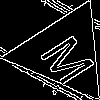M: (38, 27, 100, 88)
